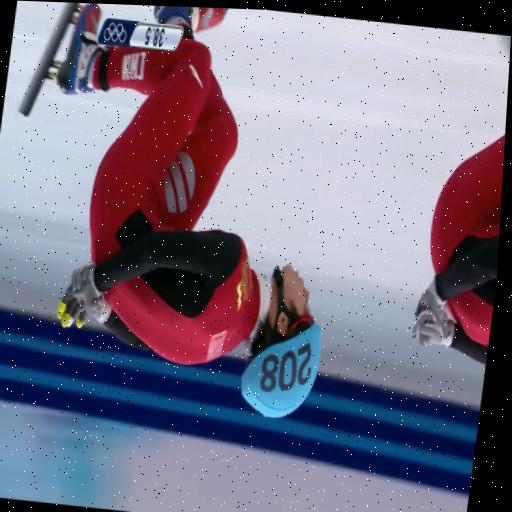Skater: (56, 3, 320, 416)
